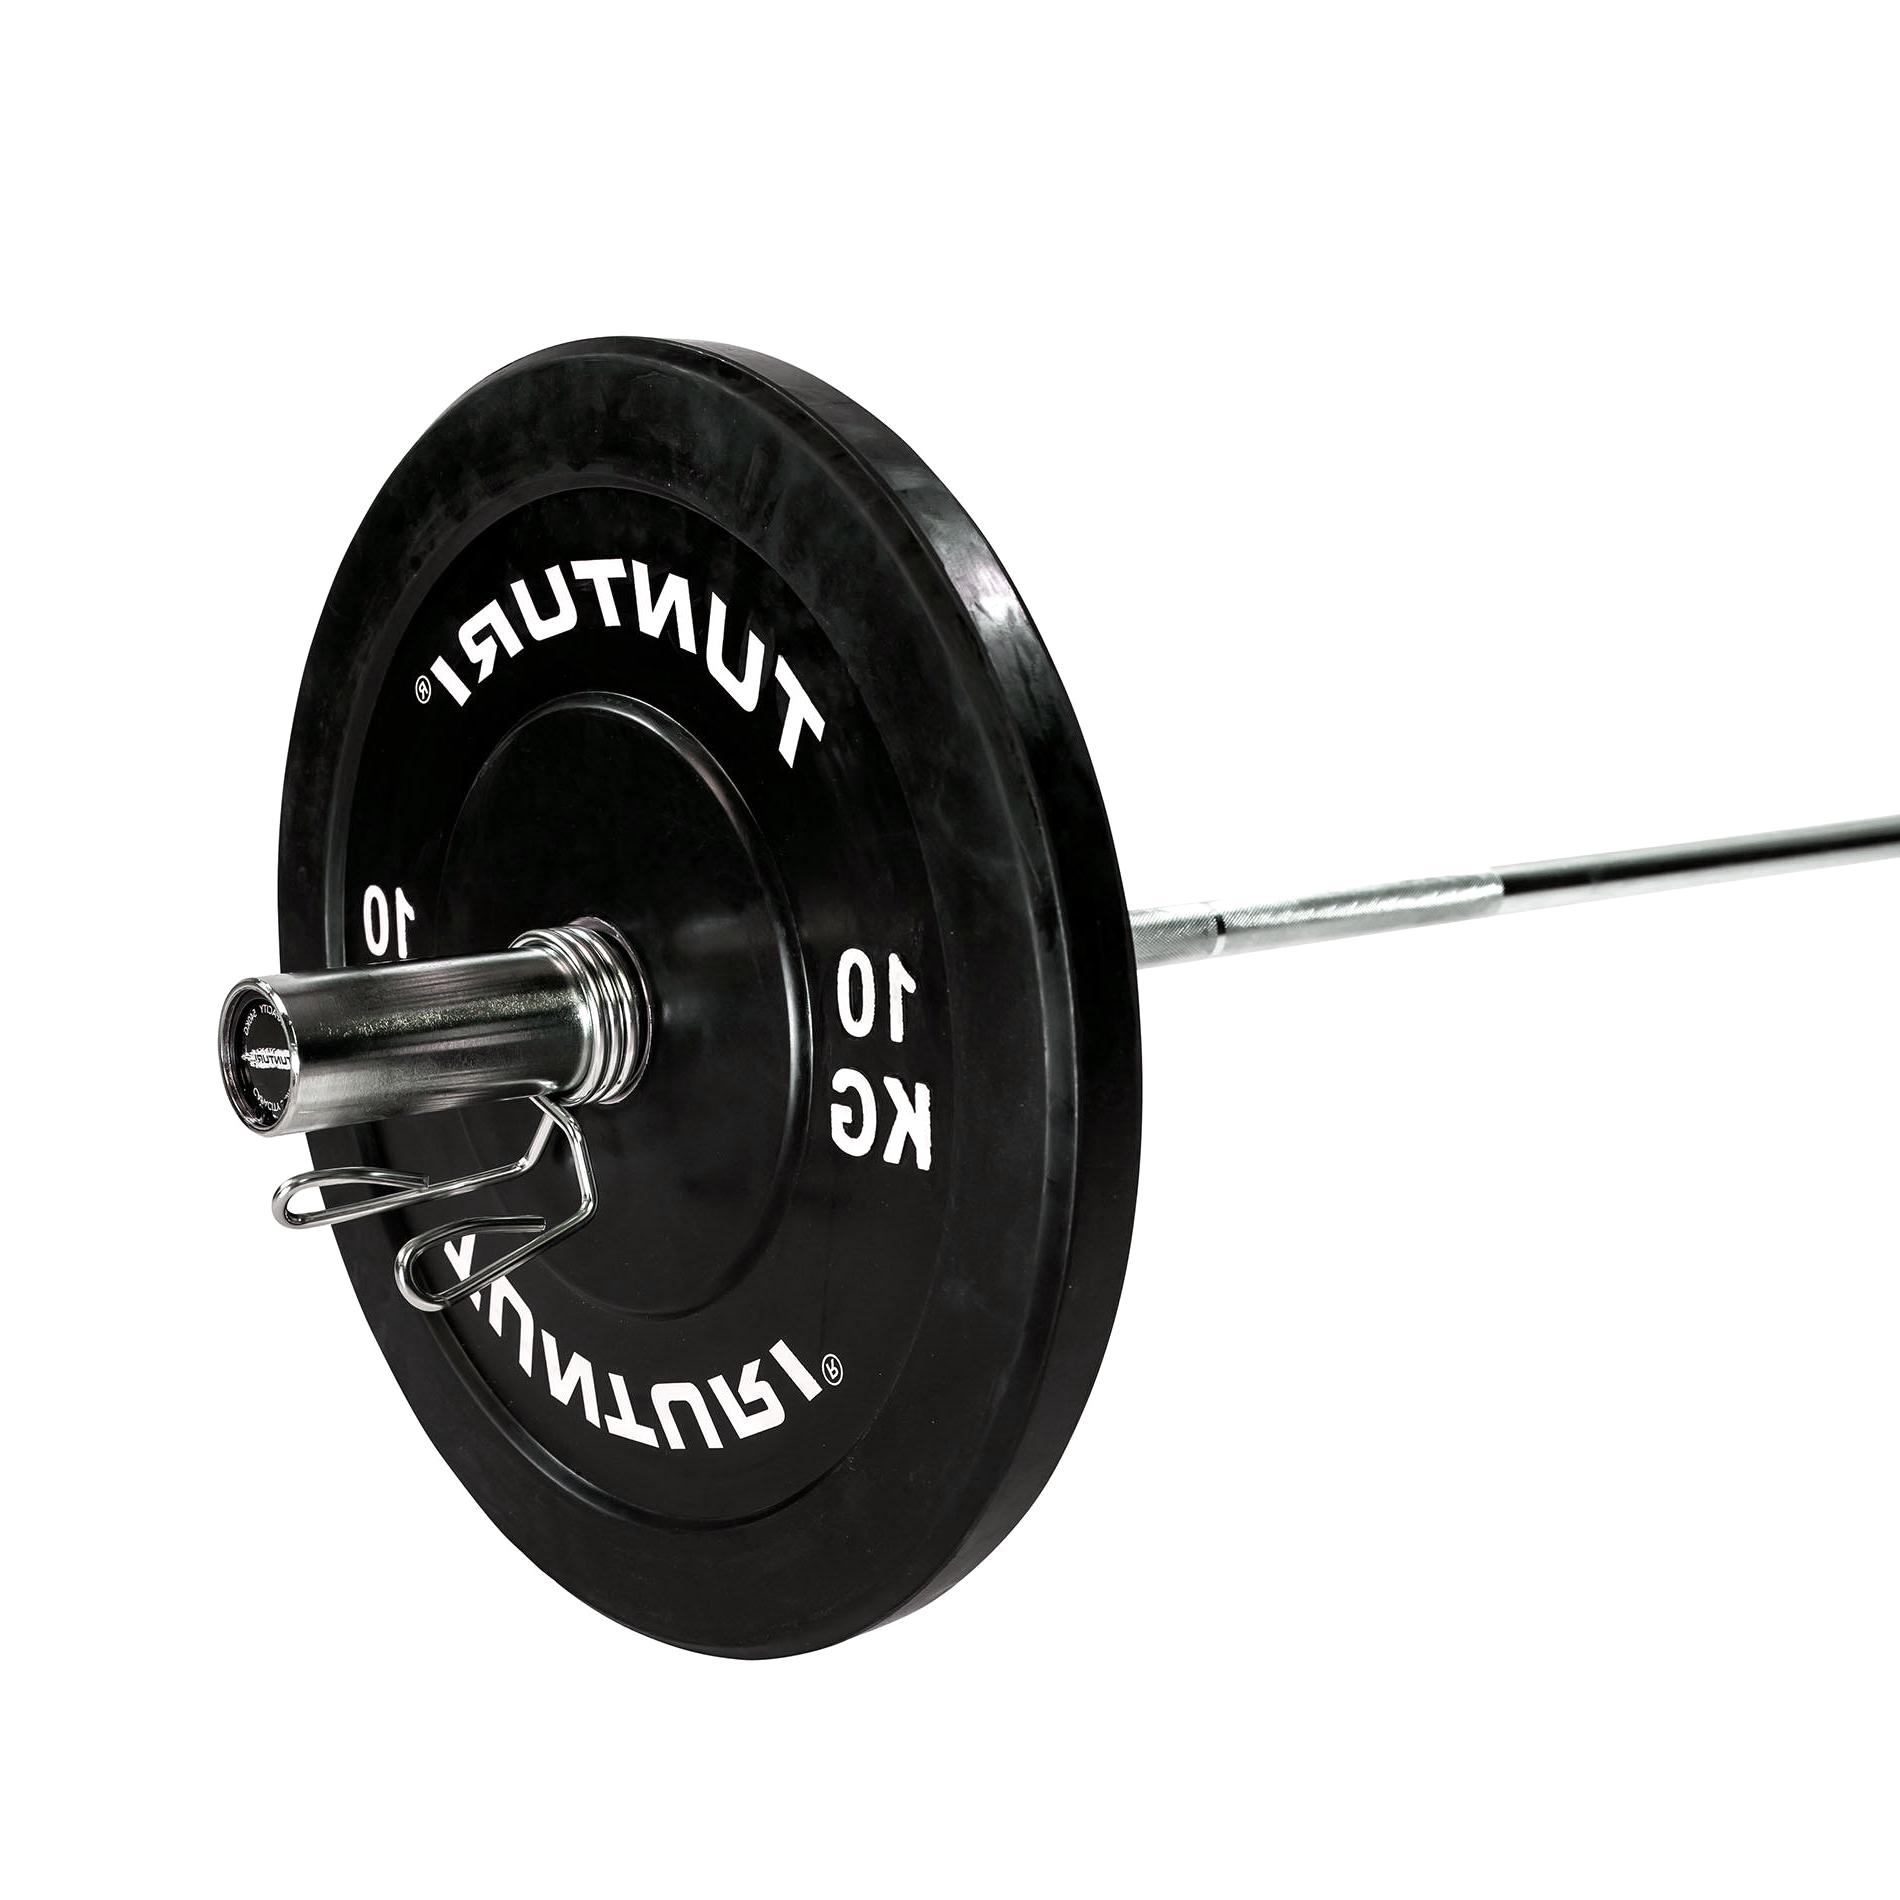Barbell: (167, 945, 338, 1173)
